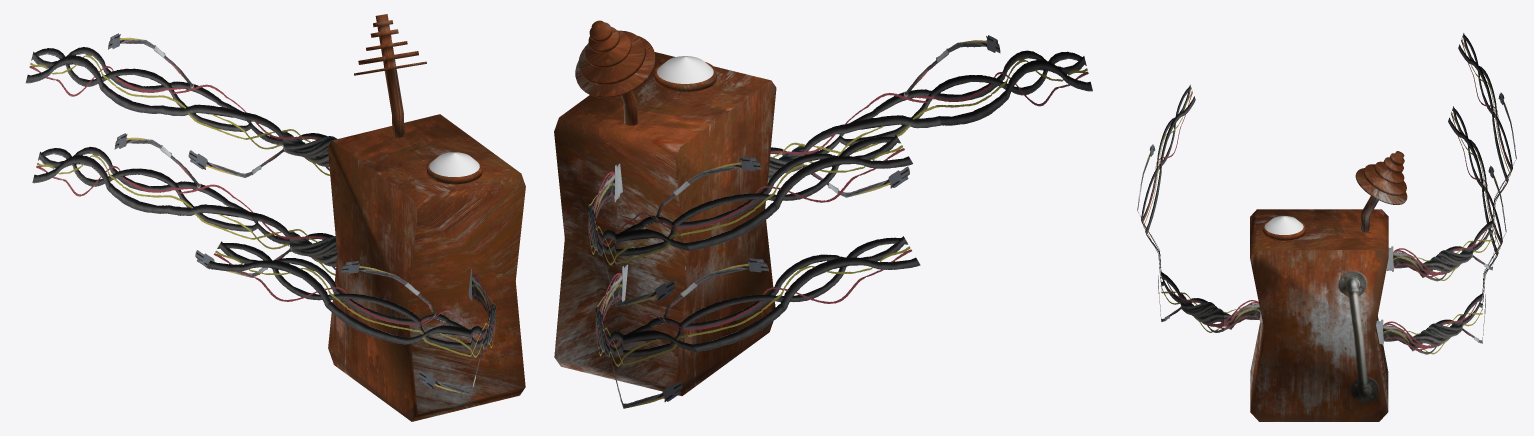
The model's file is radio_box.fbx.
3 views of the same model, side by side, from view 1: azimuth 30°, elevation 25°; view 2: azimuth 150°, elevation 25°; view 3: azimuth 270°, elevation 25° (orthographic). The views are drawn at different scales.
Visible parts, largest first — view 1: main, wires, glass; view 2: main, wires, glass; view 3: main, wires, glass.
Part boxes in pixels (bbox=[...]): main: bbox=[328, 14, 525, 421]; wires: bbox=[25, 33, 495, 394]; glass: bbox=[429, 152, 479, 176]; main: bbox=[554, 20, 776, 395]; wires: bbox=[588, 35, 1092, 408]; glass: bbox=[657, 56, 713, 83]; main: bbox=[1250, 151, 1407, 421]; wires: bbox=[1137, 33, 1516, 354]; glass: bbox=[1264, 216, 1303, 234].
Bounding box in the file's own units: 708 × 644 × 802.
